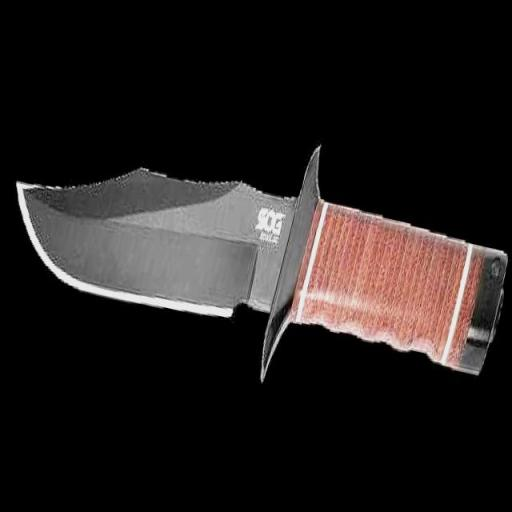knife: (0, 98, 512, 389)
